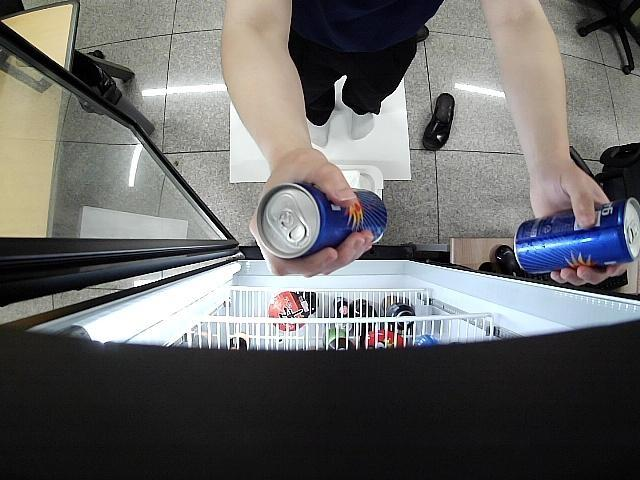16_hot6: (254, 181, 389, 262), (514, 192, 640, 276)
